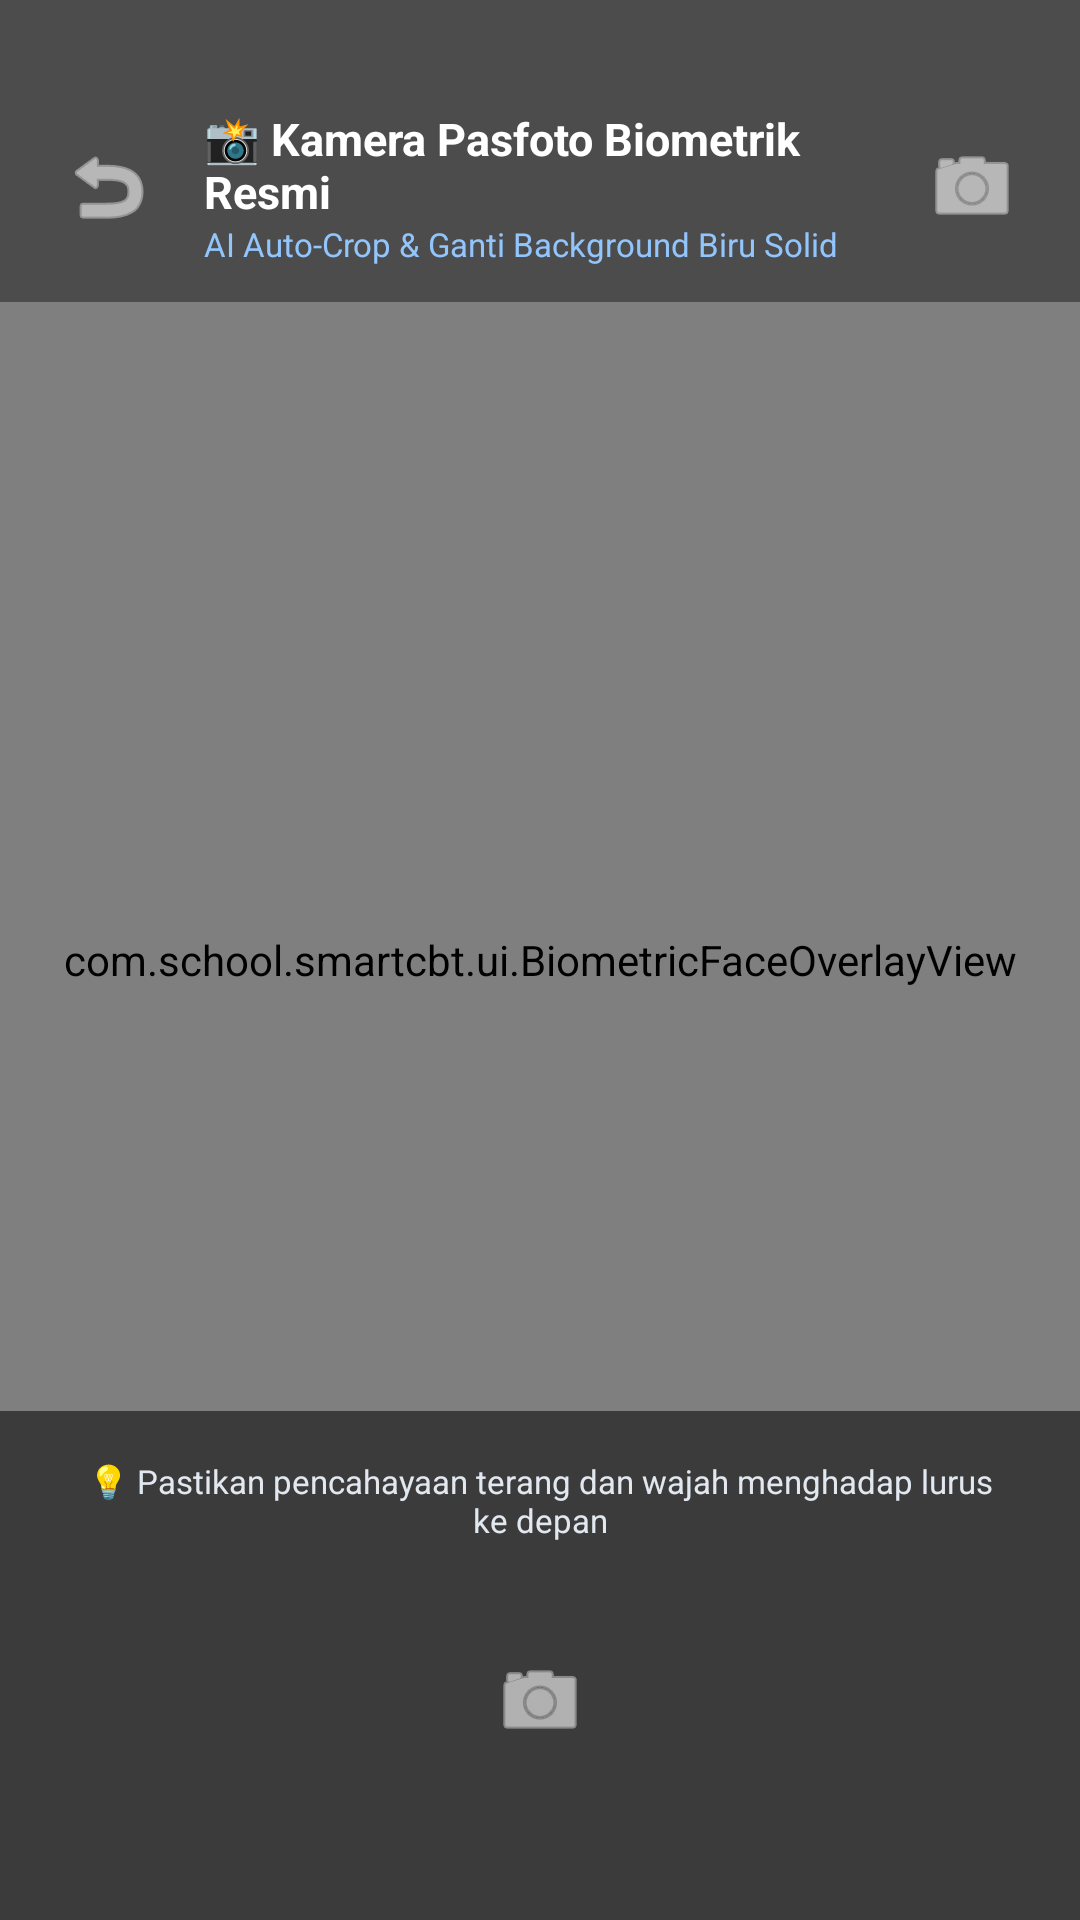

Named icons in this screenshot (1080px×1920px) and their bounding boxes, (x1, y1, x2, y2):
Ambil Pasfoto: (503, 1670, 577, 1729)
Kembali: (75, 156, 144, 219)
